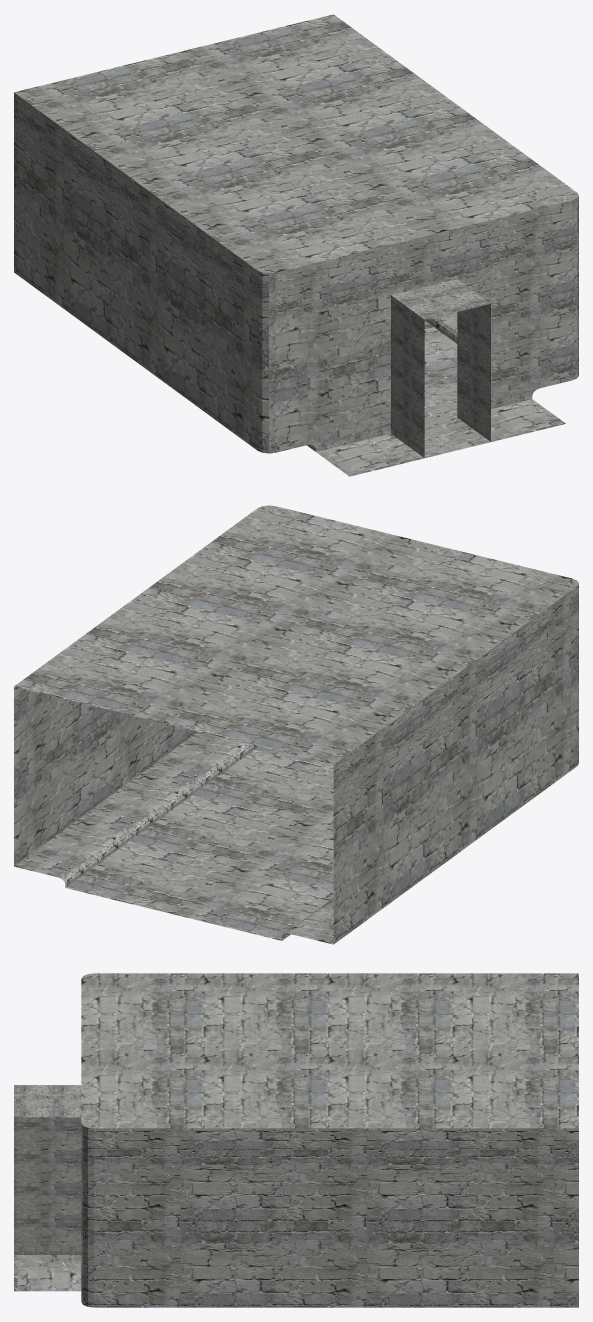
File: wellRoomBase.fbx
3 renders of one model, top to bottom at view 1: azimuth 30°, elevation 25°; view 2: azimuth 150°, elevation 25°; view 3: azimuth 270°, elevation 25°, orthographic.
Parts seen in each view (by area): view 1: RoomBase; view 2: RoomBase; view 3: RoomBase.
Boxes of the visible parts, x1,y1,x2,y2 form: RoomBase: [14, 14, 578, 476]; RoomBase: [14, 505, 578, 944]; RoomBase: [14, 973, 578, 1307].
Bounding box in the file's own units: 442 × 250 × 681.
Materials: 1 (1 with a texture image).
